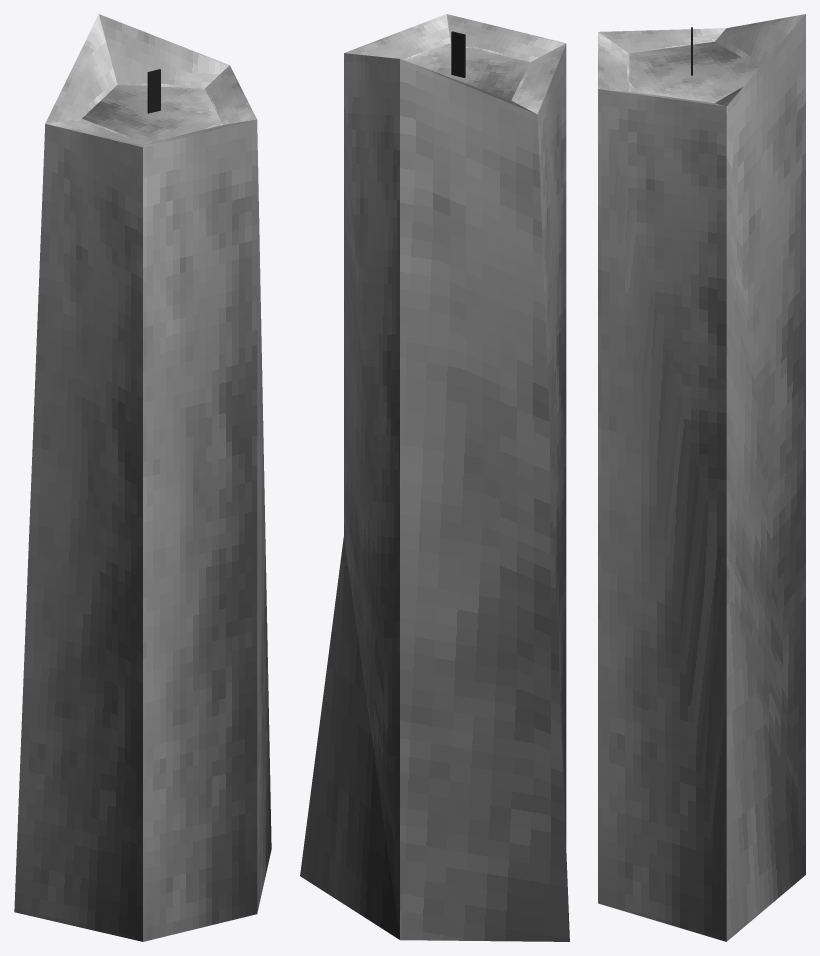
The model's file is candle_ulit1.glb.
The picture shows the model from 3 angles, left to right: view 1: azimuth 30°, elevation 25°; view 2: azimuth 150°, elevation 25°; view 3: azimuth 270°, elevation 25°; orthographic projection. The views are drawn at different scales.
Visible parts, largest first — view 1: candle_ulit1; view 2: candle_ulit1; view 3: candle_ulit1.
Part boxes in pixels (bbox=[...]): candle_ulit1: bbox=[14, 14, 271, 941]; candle_ulit1: bbox=[300, 14, 569, 941]; candle_ulit1: bbox=[598, 14, 805, 941].
Size of the model in its own units: 0.053 by 0.1654 by 0.0362.
Materials: 1 (1 with a texture image).
